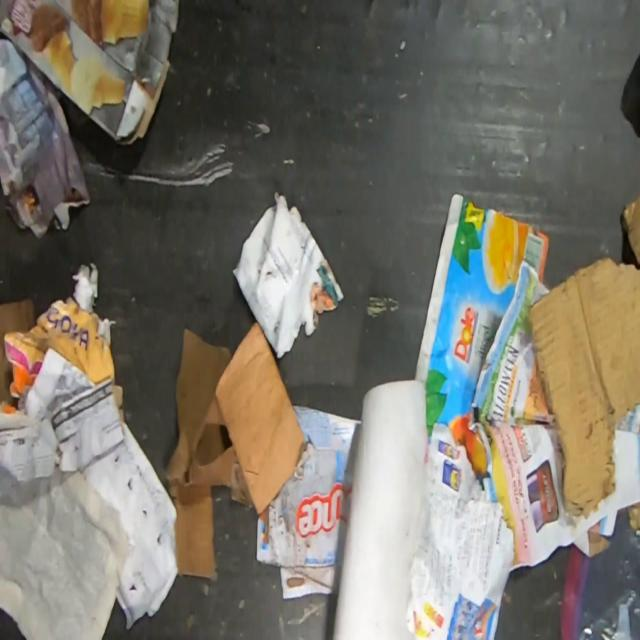cardboard: (413, 192, 550, 490), (164, 321, 306, 579), (528, 256, 640, 519), (0, 0, 180, 146), (254, 404, 361, 599), (0, 297, 35, 409), (620, 192, 640, 266)
soft_plastic: (559, 500, 640, 640)
